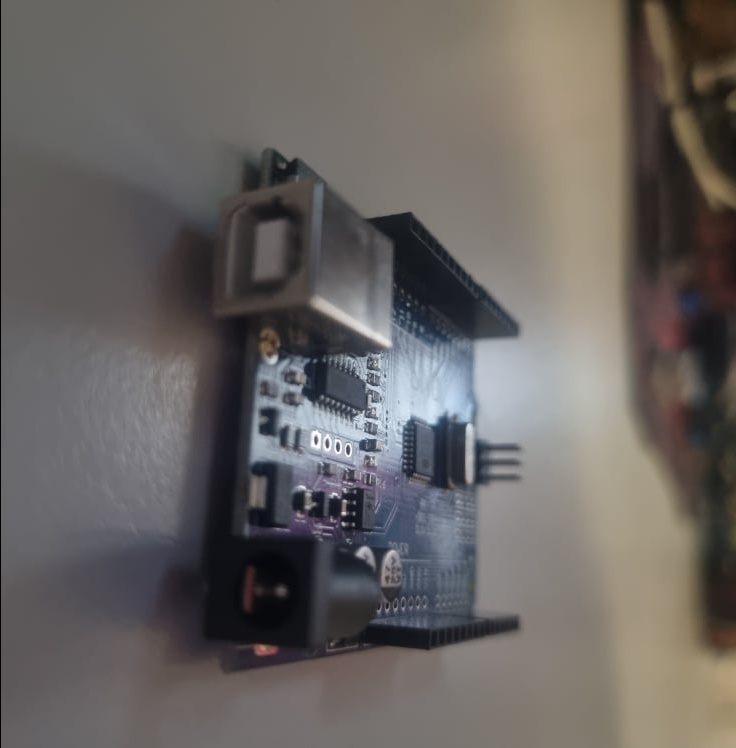UNO R3: (194, 143, 520, 678)
